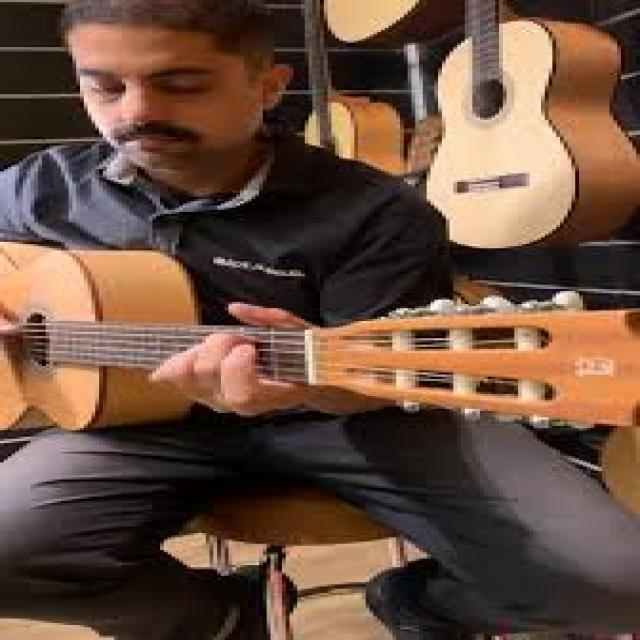acousticguitar: (0, 237, 632, 438), (419, 5, 625, 248), (290, 0, 400, 184)
